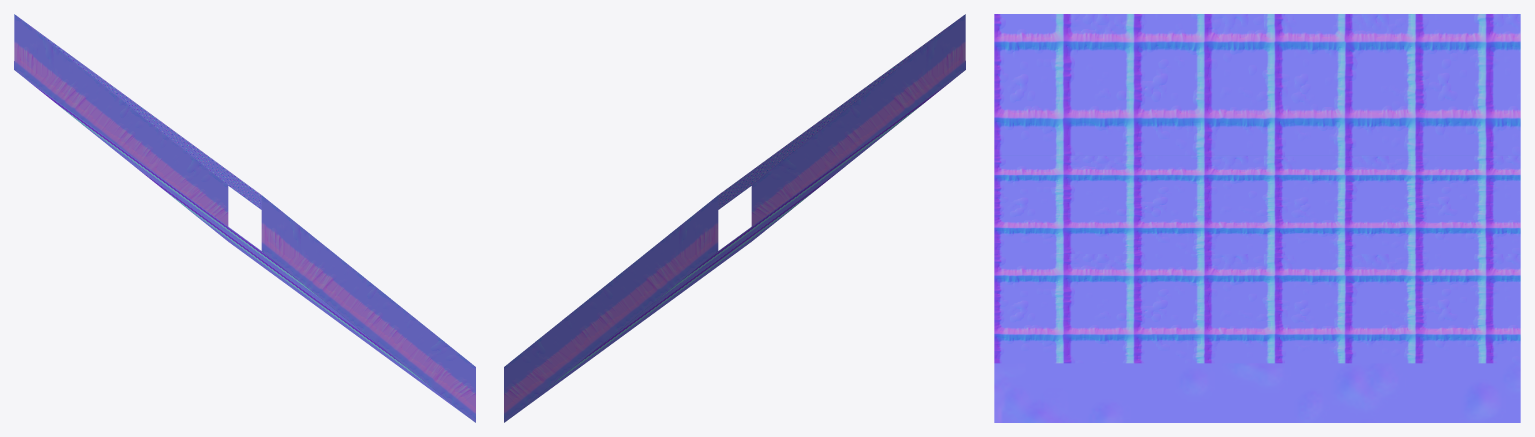
File: sm_roof_slanted_top_01.fbx
The picture shows the model from 3 angles, left to right: view 1: azimuth 30°, elevation 25°; view 2: azimuth 150°, elevation 25°; view 3: azimuth 270°, elevation 25°; orthographic projection. The views are drawn at different scales.
Parts seen in each view (by area): view 1: sm_roof_slanted_top_01; view 2: sm_roof_slanted_top_01; view 3: sm_roof_slanted_top_01.
Boxes of the visible parts, x1,y1,x2,y2 form: sm_roof_slanted_top_01: [14, 14, 475, 422]; sm_roof_slanted_top_01: [504, 14, 965, 422]; sm_roof_slanted_top_01: [994, 14, 1520, 422].
Bounding box in the file's own units: 200 × 250 × 400.
1 material, 1 textured.
